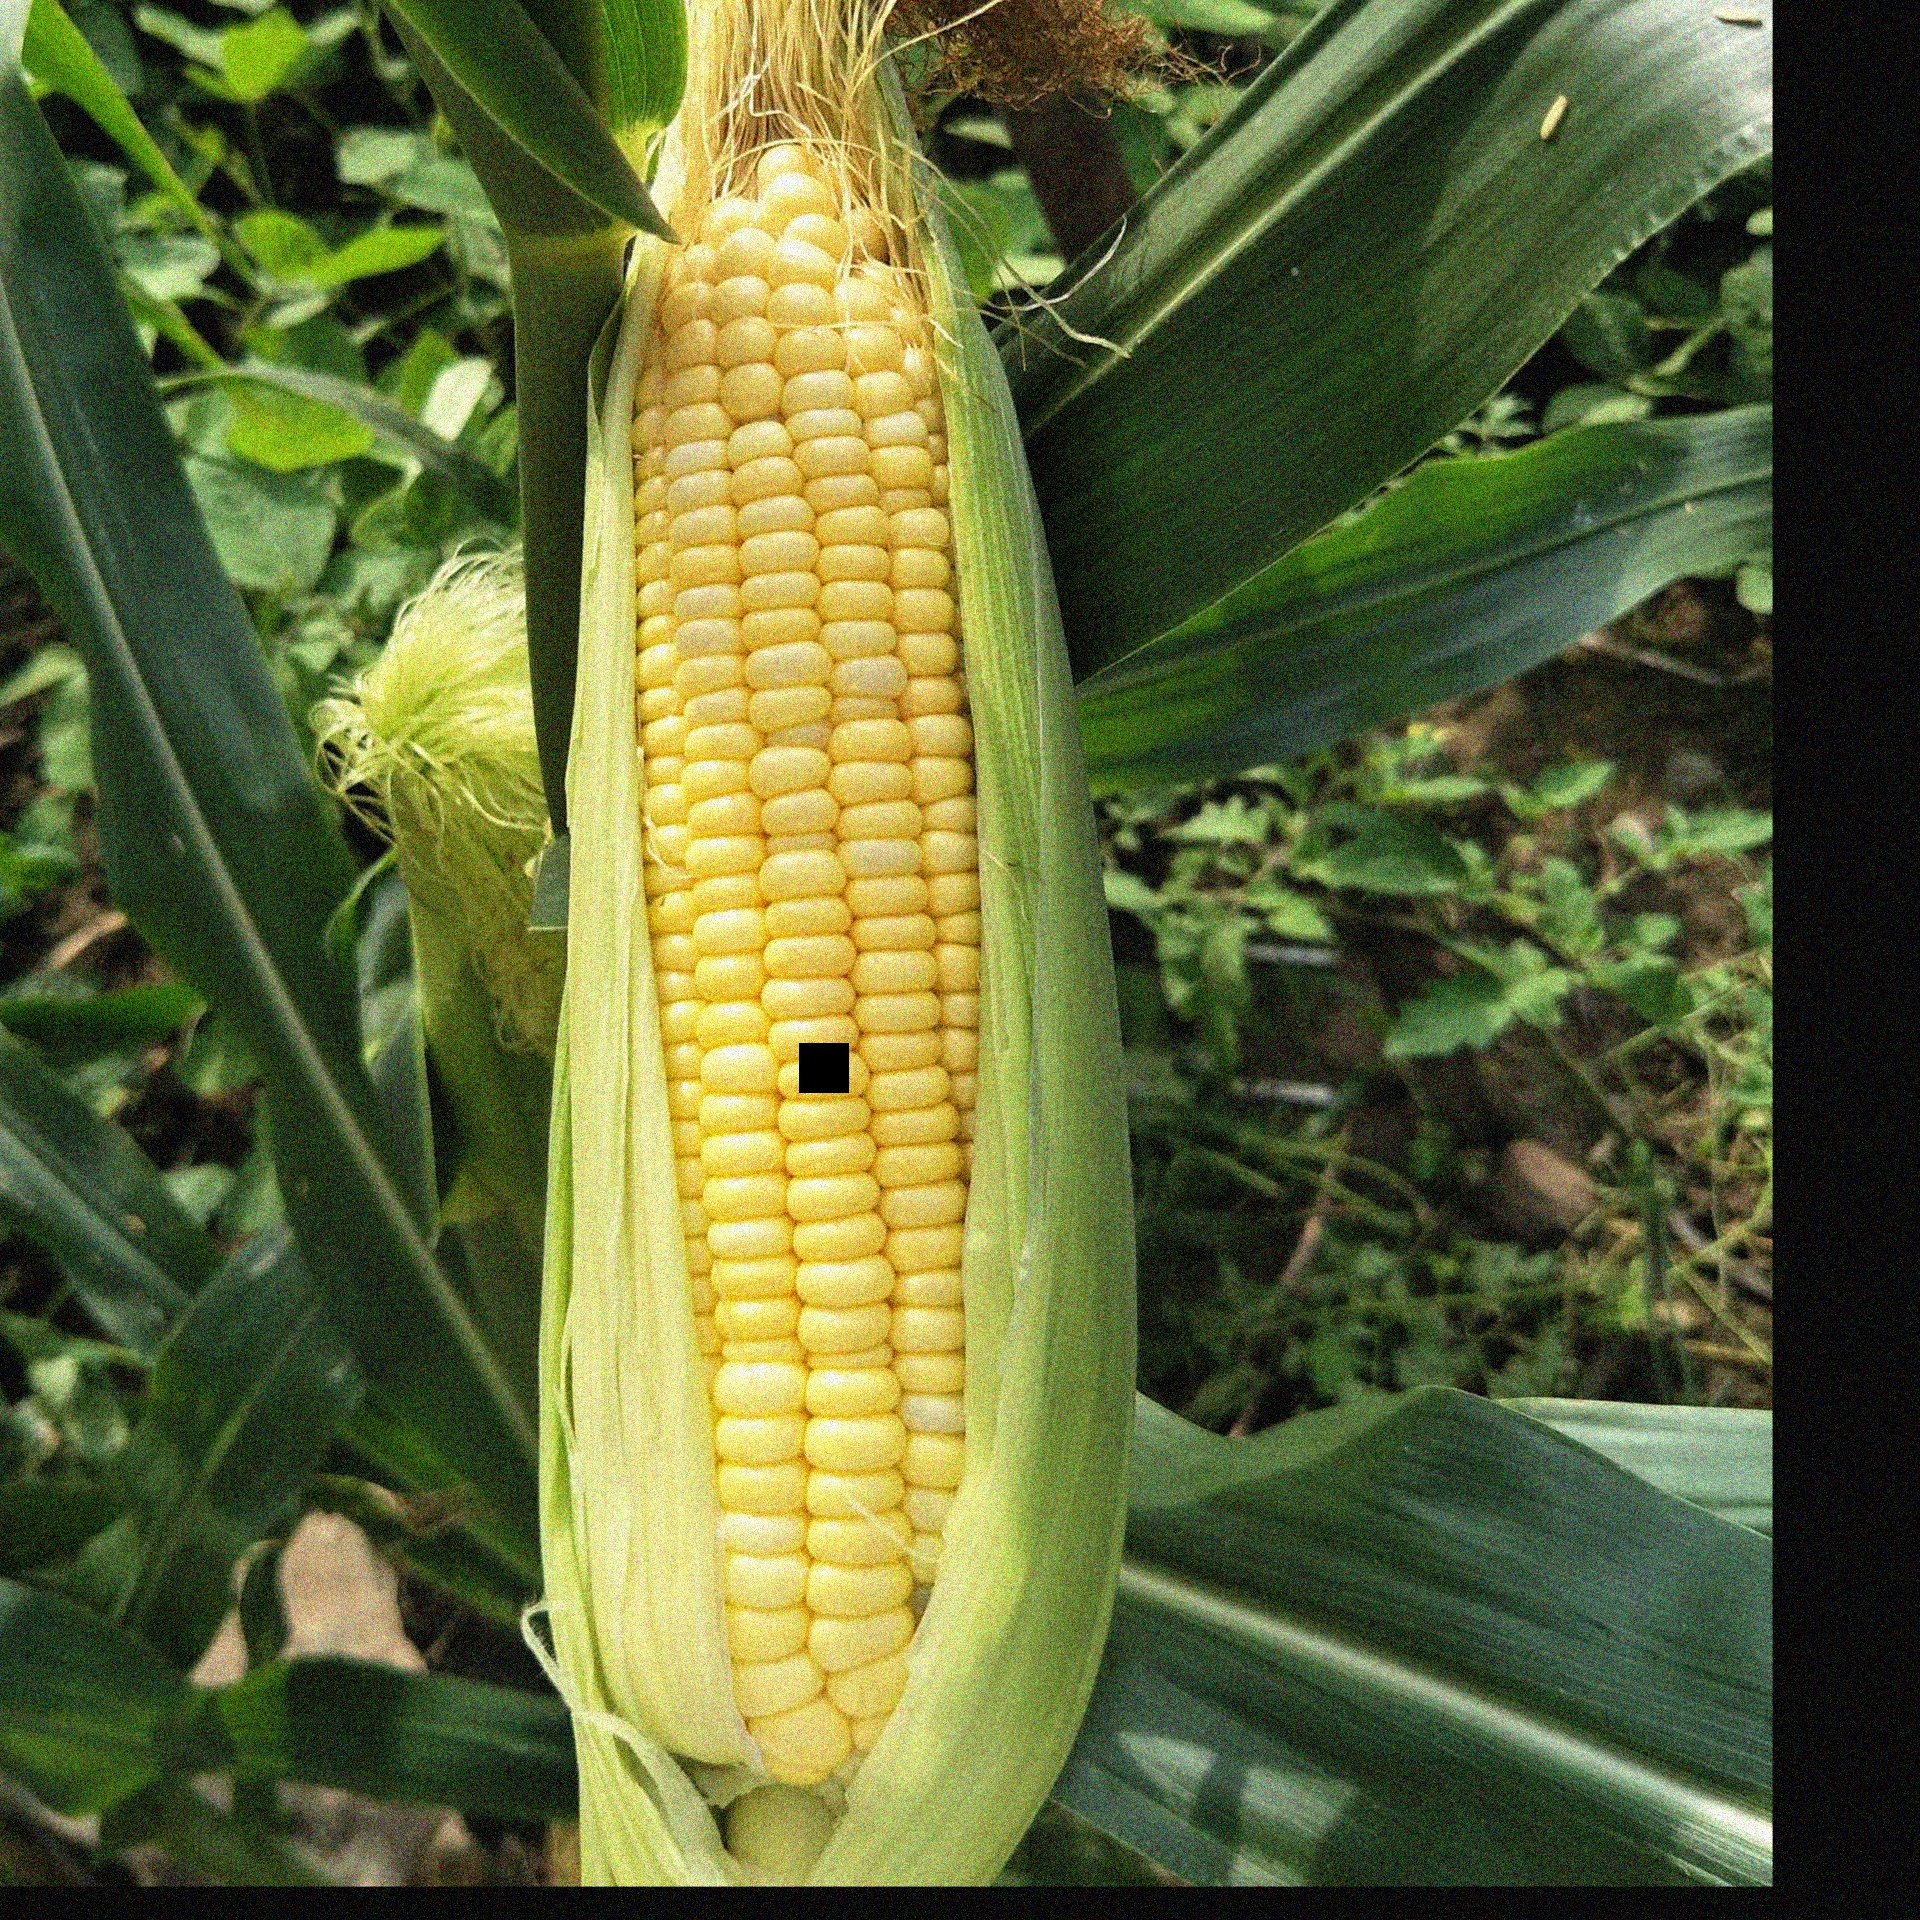corn: (545, 114, 1132, 1887)
